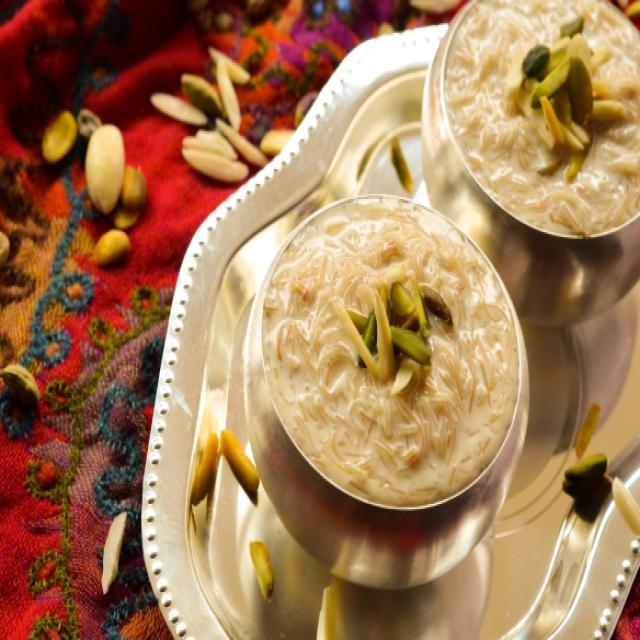shavige payasa: (238, 187, 530, 542), (435, 0, 640, 257)
